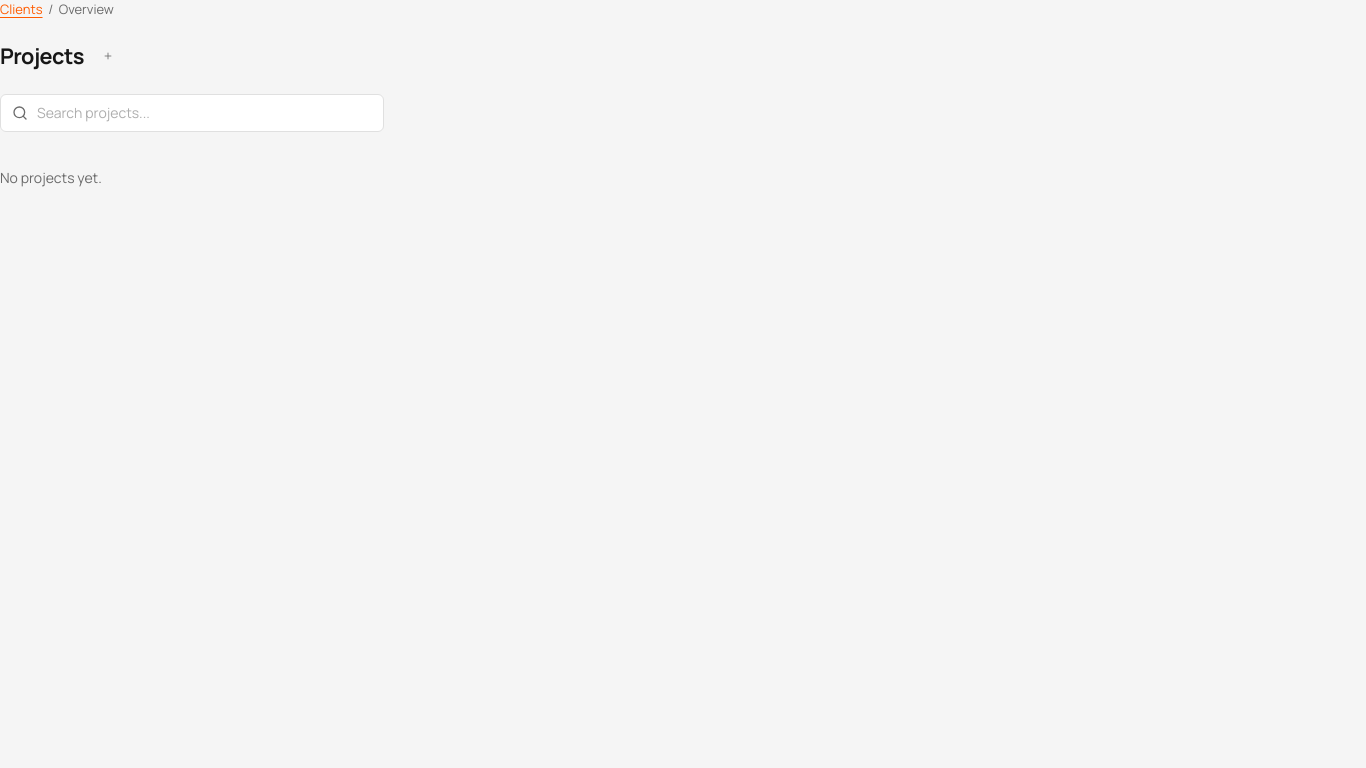
CreateProjectForm › creates a project and refreshes the list
Expected: the text "No projects yet." is shown, [0,168,102,187]
Step 1. Click the button named "Add project" → click(108, 56), box [92,40,124,72]
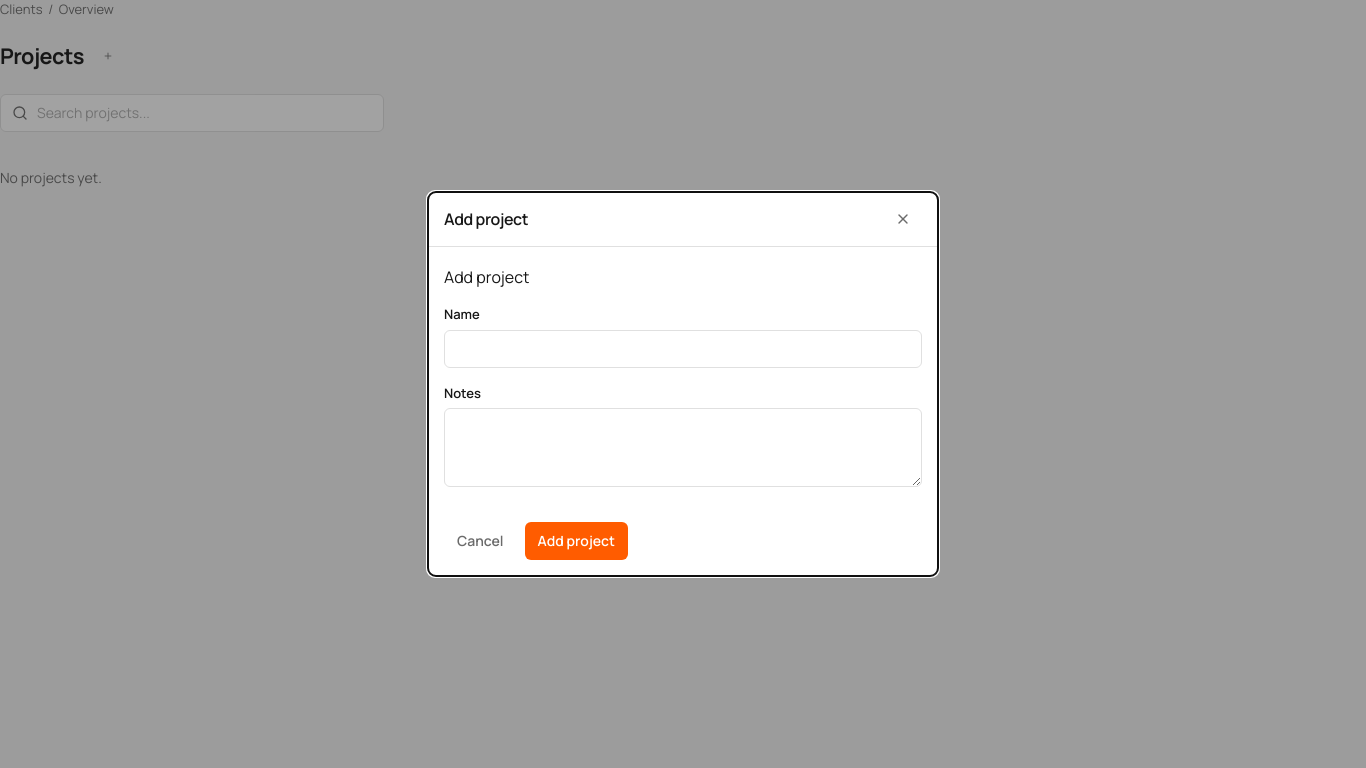
Step 2. Type "Website" into the field labelled "Name" → (683, 349), box [444,330,922,368]
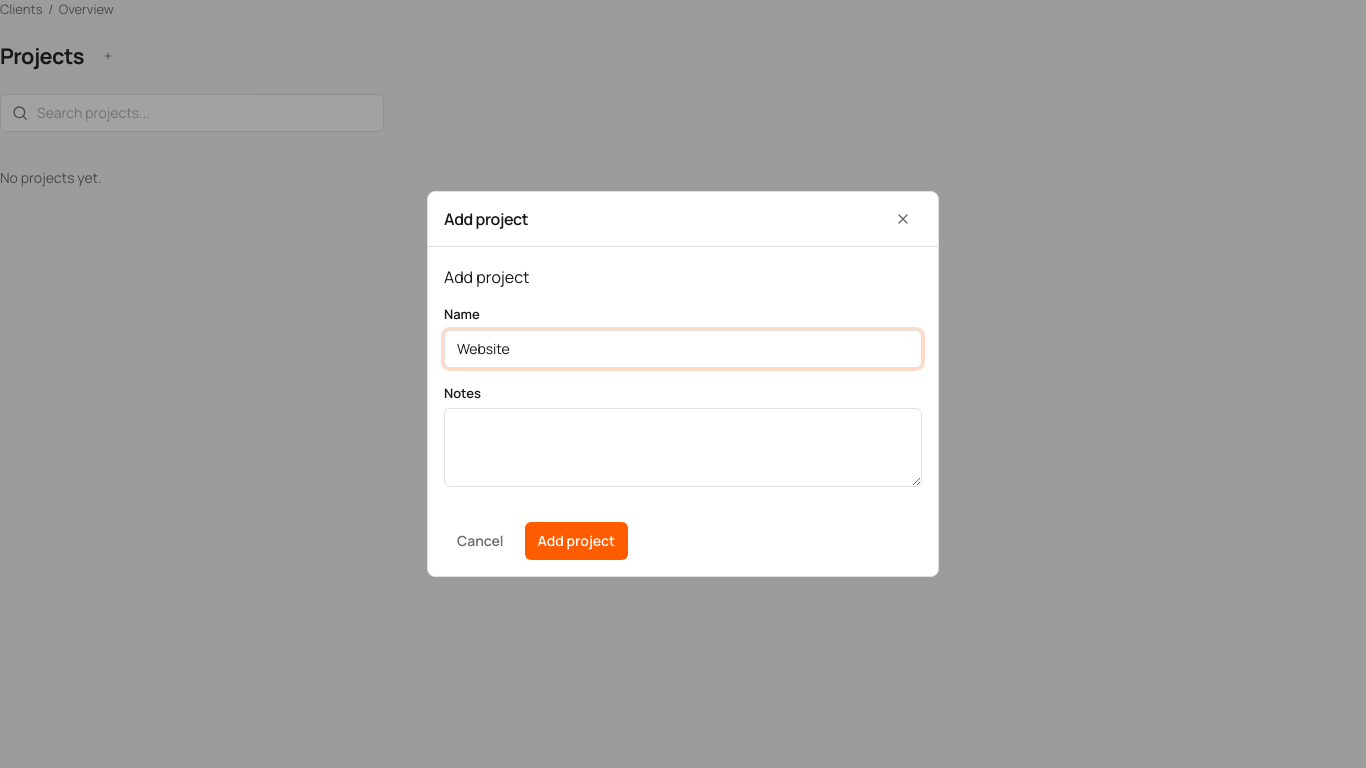
Step 3. Type "Launch" into the text box labelled "Notes" → (683, 447), box [444,408,922,487]
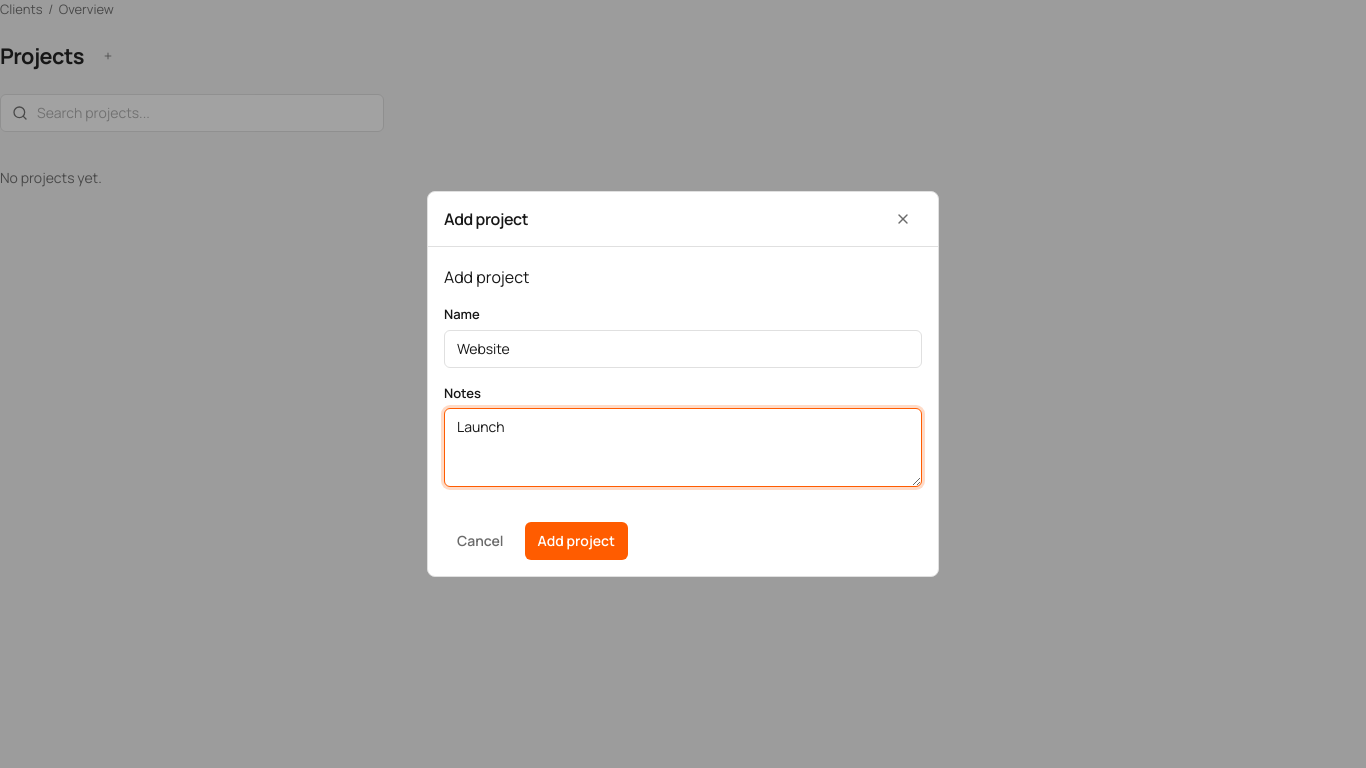
Step 4. Click the button "Add project" → click(576, 541), box [524,522,628,560]
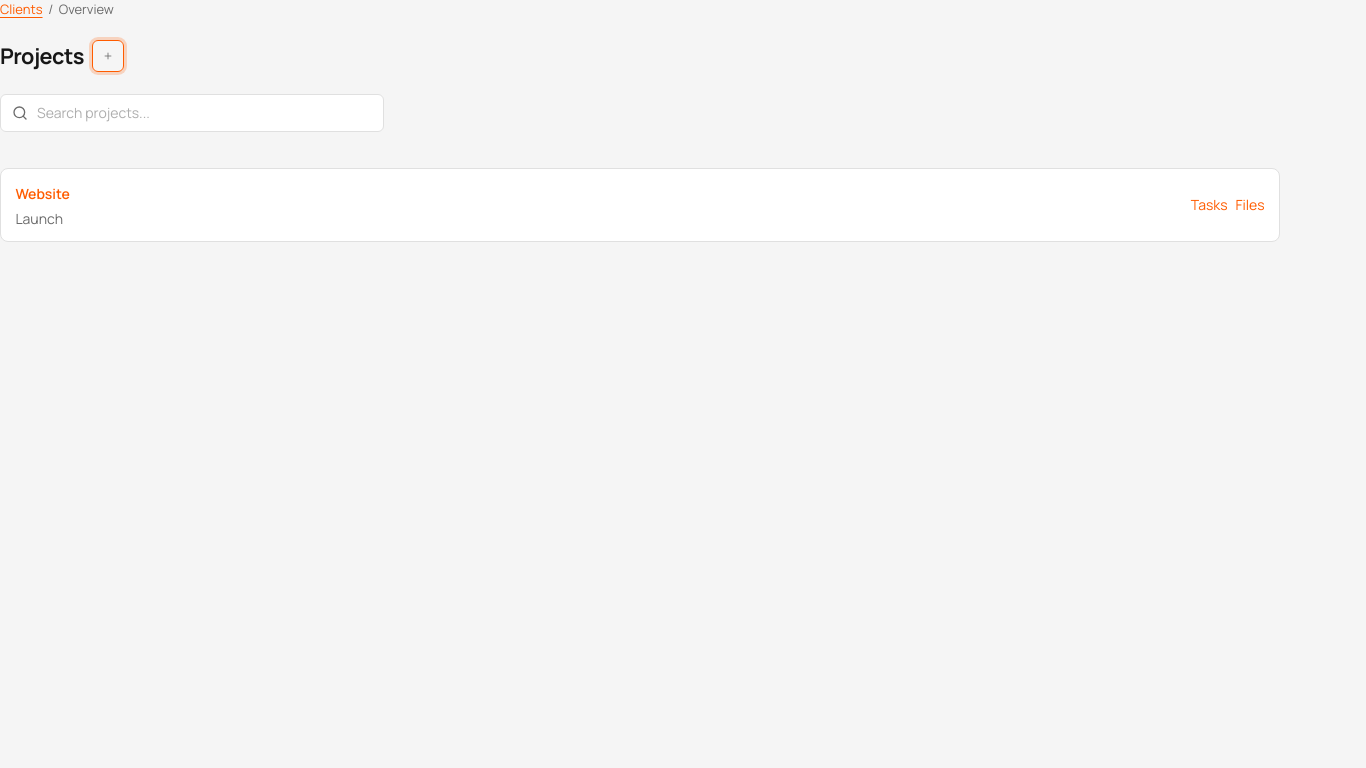
Now the link "Website" is shown, box [15,184,70,203]
Now the text "Launch" is shown, box [15,209,70,229]
Now the dialog is gone
